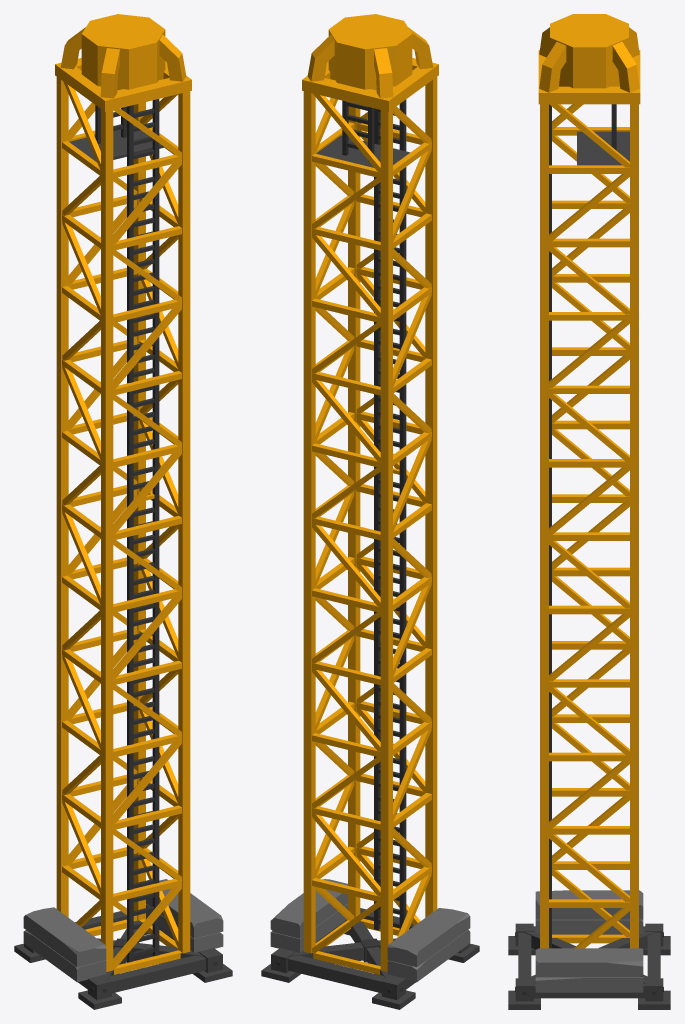
File: SM_IndustrialProps_TowerCrane_01.fbx
3 renders of one model, left to right at view 1: azimuth 30°, elevation 25°; view 2: azimuth 150°, elevation 25°; view 3: azimuth 270°, elevation 25°, orthographic.
Parts seen in each view (by area): view 1: SM_IndustrialProps_TowerCrane_01; view 2: SM_IndustrialProps_TowerCrane_01; view 3: SM_IndustrialProps_TowerCrane_01.
Part boxes in pixels (bbox=[...]): SM_IndustrialProps_TowerCrane_01: bbox=[14, 14, 232, 1009]; SM_IndustrialProps_TowerCrane_01: bbox=[261, 14, 479, 1009]; SM_IndustrialProps_TowerCrane_01: bbox=[508, 14, 670, 1009].
Bounding box in the file's own units: 2.64 × 16.09 × 2.5.
